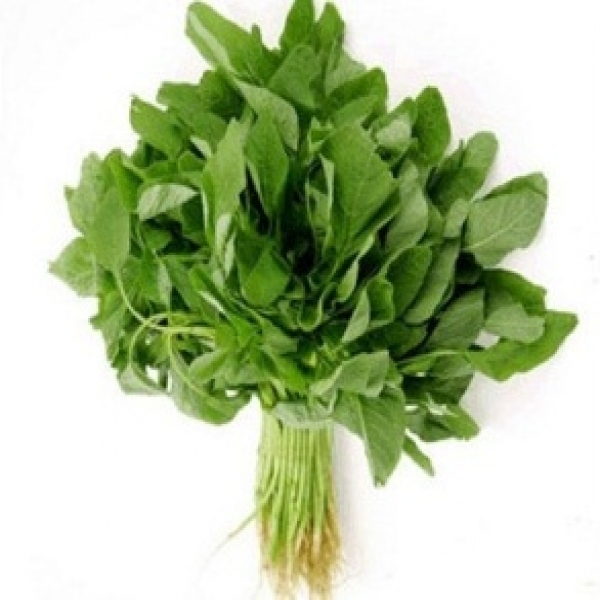Bayam: (55, 11, 567, 582)
